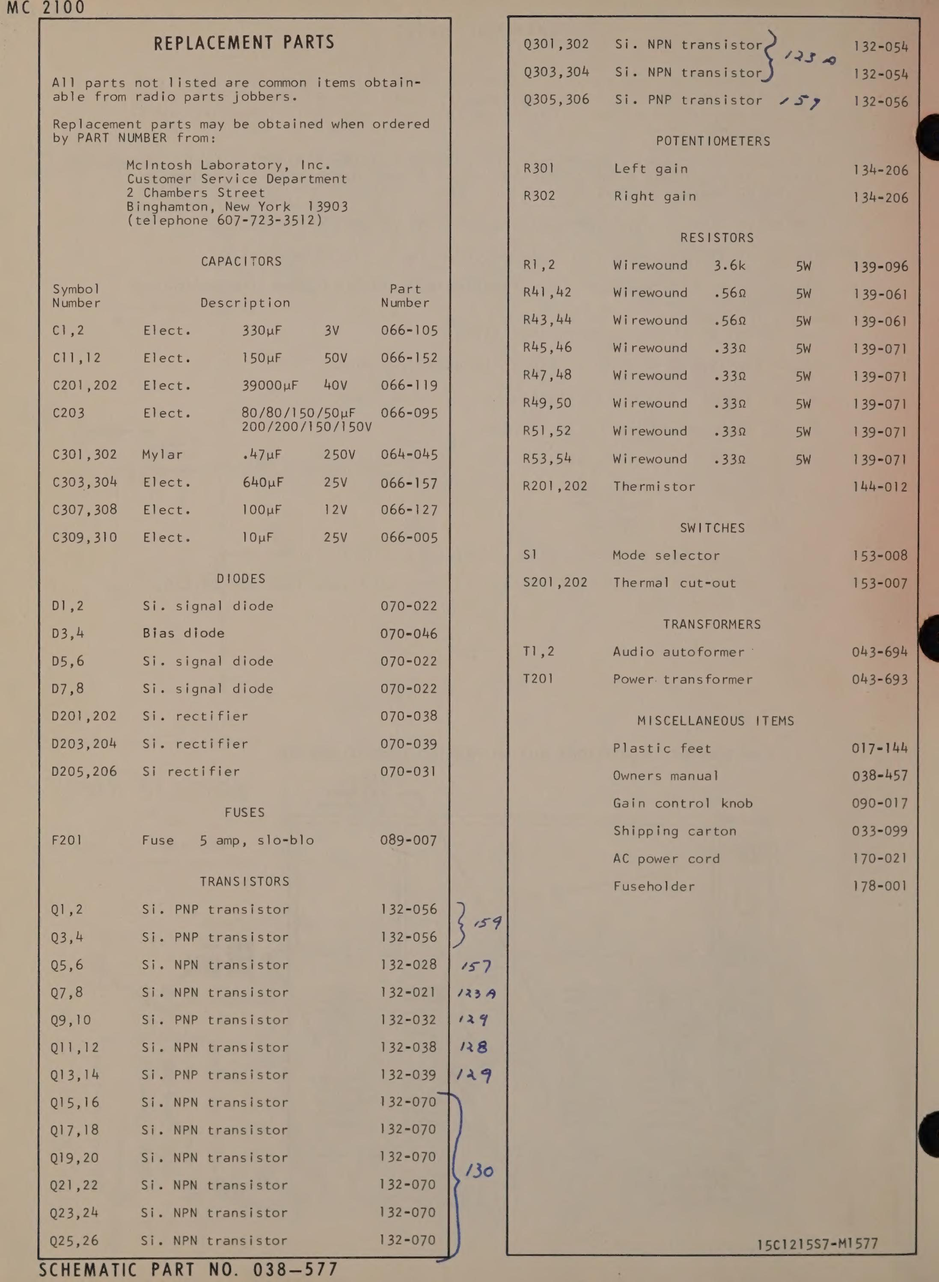C11_12: (51, 350, 103, 369)
C1_2: (50, 321, 88, 340)
C201_202: (52, 376, 120, 395)
C203: (51, 405, 85, 420)
C301_302: (52, 444, 121, 463)
C303_304: (52, 474, 121, 491)
C307_308: (50, 501, 120, 518)
C309_310: (49, 530, 118, 547)
D1_2: (48, 595, 88, 614)
D201_202: (50, 708, 120, 725)
D203_204: (49, 737, 120, 754)
D205_06: (48, 762, 122, 780)
D3_4: (47, 625, 90, 641)
D5_6: (48, 653, 87, 669)
D7_8: (49, 680, 88, 696)
F201: (49, 831, 86, 848)
Q11_12: (48, 1039, 99, 1058)
Q13_14: (49, 1067, 103, 1084)
Q15_16: (48, 1093, 104, 1112)
Q17_18: (49, 1122, 101, 1141)
Q19_20: (46, 1149, 101, 1169)
Q1_2: (51, 898, 90, 917)
Q21_22: (47, 1178, 100, 1195)
Q23_24: (49, 1205, 102, 1222)
Q25_26: (49, 1234, 104, 1251)
Q301_302: (520, 34, 592, 55)
Q303_304: (522, 64, 594, 85)
Q305_306: (520, 89, 594, 109)
Q3_4: (48, 930, 88, 947)
Q5_6: (49, 957, 86, 975)
Q7_8: (49, 983, 86, 1003)
Q9_10: (49, 1013, 95, 1031)
R1_2: (522, 255, 561, 275)
R201_202: (520, 475, 592, 495)
R301: (516, 159, 558, 178)
R302: (516, 187, 561, 204)
R41_42: (520, 283, 573, 300)
R43_44: (521, 311, 578, 328)
R45_46: (520, 334, 573, 355)
R47_48: (521, 364, 577, 386)
R49_50: (518, 394, 578, 414)
R51_52: (518, 419, 574, 440)
R53_54: (518, 450, 573, 471)
S1: (518, 545, 541, 566)
S201_202: (521, 572, 591, 595)
T1_: (519, 643, 561, 659)
T201: (520, 671, 558, 687)
